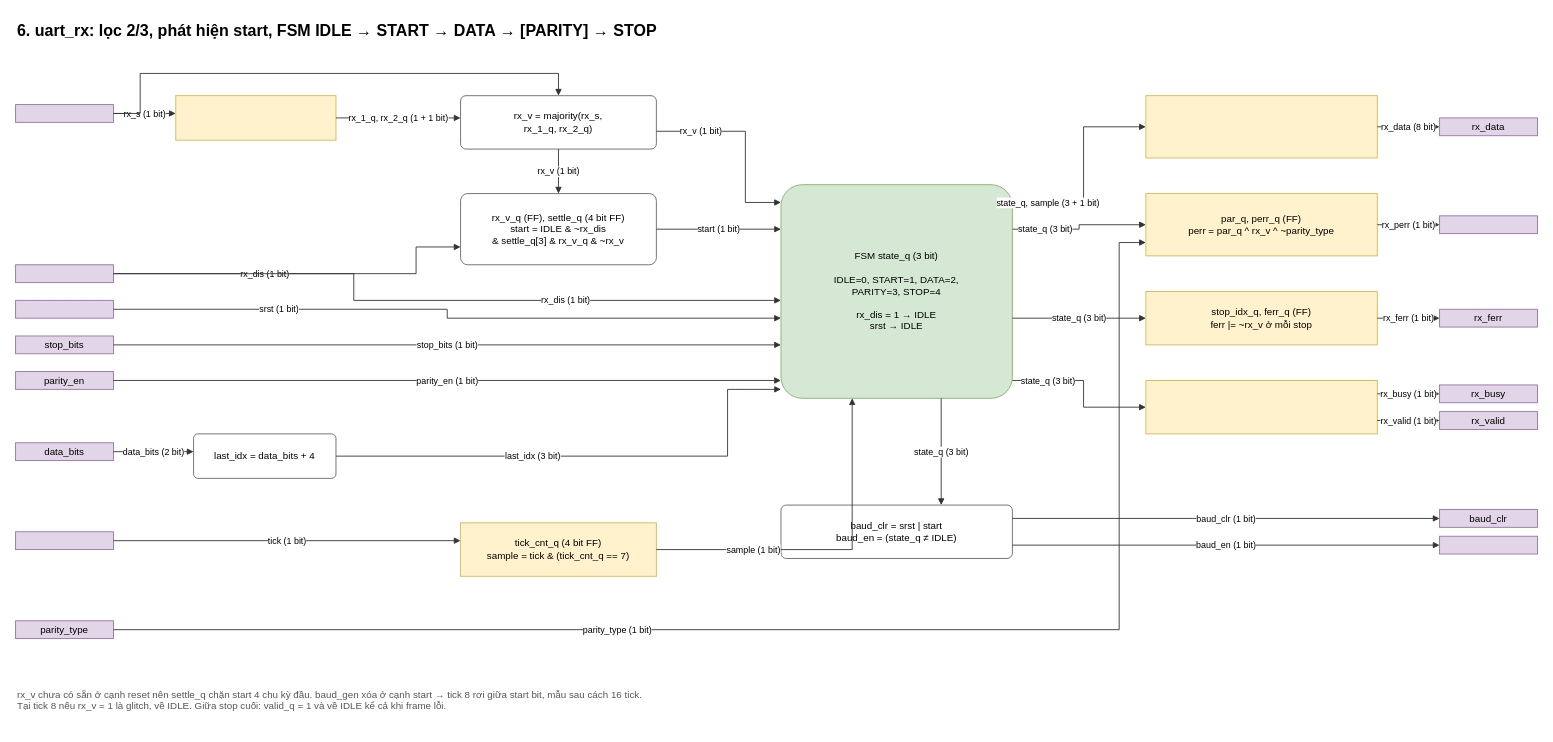
The diagram is 1553 pixels wide and 742 high, and some of its shapes have lost their labels. Each missing label, with the centre of its shape:
"baud_en" goes at [1488,544].
"busy_q, valid_q (FF) valid_q: xung 1 chu kỳ" goes at [1261,407].
"data_q (8 bit FF), bit_idx_q (3 bit) data_q[bit_idx_q] ← rx_v" goes at [1261,126].
"rx_1_q → rx_2_q (FF)" goes at [255,117].
"rx_dis" goes at [64,273].
"rx_perr" goes at [1488,224].
"rx_s" goes at [64,113].
"srst" goes at [64,308].
"tick" goes at [64,540].
